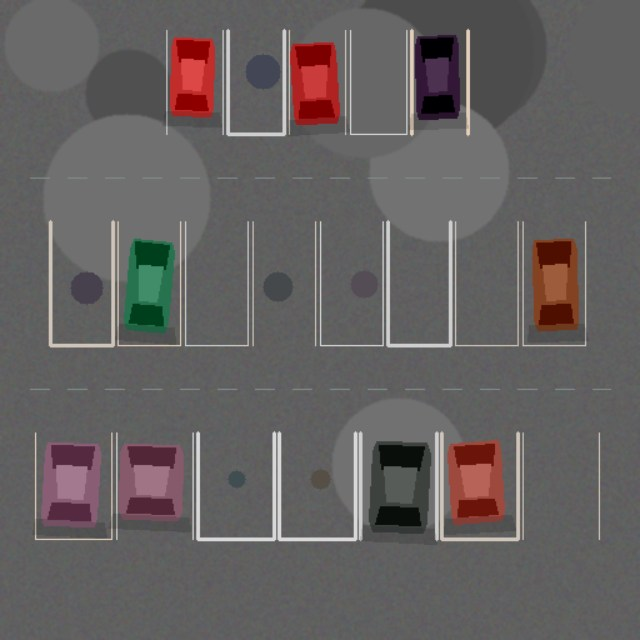space-empty: (197, 432, 274, 539), (279, 432, 355, 539), (523, 432, 599, 539), (185, 221, 248, 345), (252, 221, 315, 345), (455, 221, 518, 345), (50, 221, 112, 345), (320, 221, 382, 345), (388, 221, 450, 345), (227, 30, 284, 134), (350, 30, 406, 134)
space-occupied: (116, 432, 193, 539), (35, 432, 111, 539), (360, 432, 436, 539), (441, 432, 517, 539), (522, 221, 585, 345), (118, 221, 180, 345), (166, 30, 223, 134), (289, 30, 345, 134), (411, 30, 467, 134)
